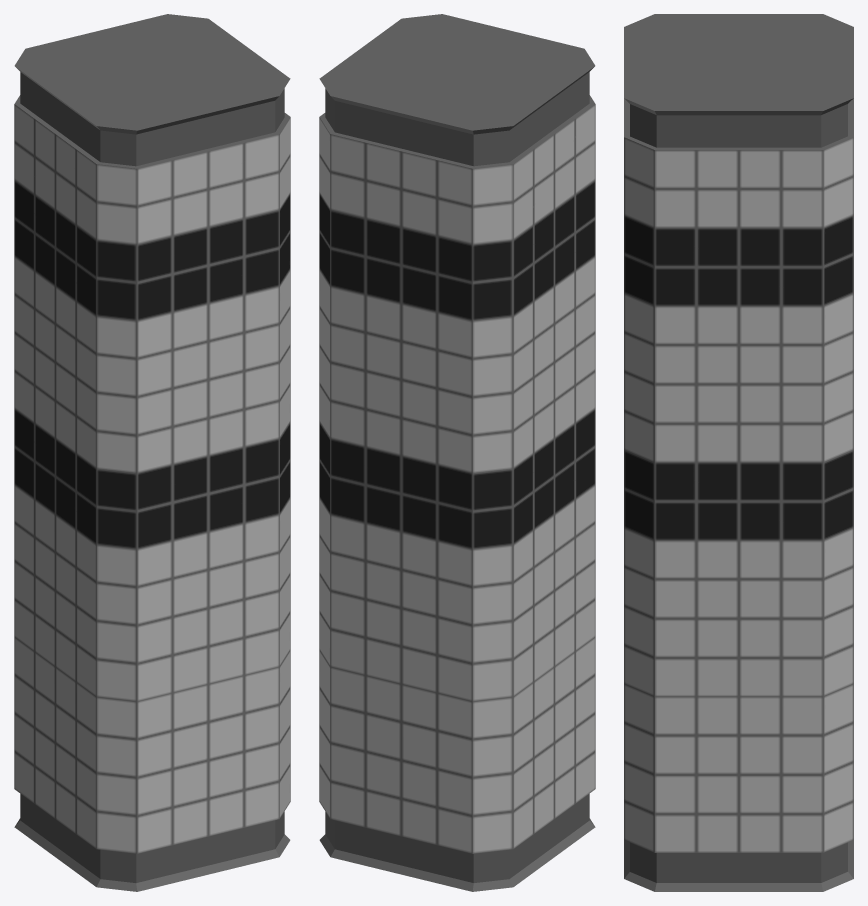
Rendered from SW_ENV_PillarTiled_Variant03.fbx.
The picture shows the model from 3 angles, left to right: view 1: azimuth 30°, elevation 25°; view 2: azimuth 150°, elevation 25°; view 3: azimuth 270°, elevation 25°; orthographic projection. The views are drawn at different scales.
Visible parts, largest first — view 1: SW_ENV_PillarTiled_Variant03; view 2: SW_ENV_PillarTiled_Variant03; view 3: SW_ENV_PillarTiled_Variant03.
Boxes of the visible parts, <box> form: SW_ENV_PillarTiled_Variant03: <box>14,14,290,891</box>; SW_ENV_PillarTiled_Variant03: <box>319,14,595,891</box>; SW_ENV_PillarTiled_Variant03: <box>624,14,853,891</box>.
Bounding box in the file's own units: 80 × 300 × 80.
